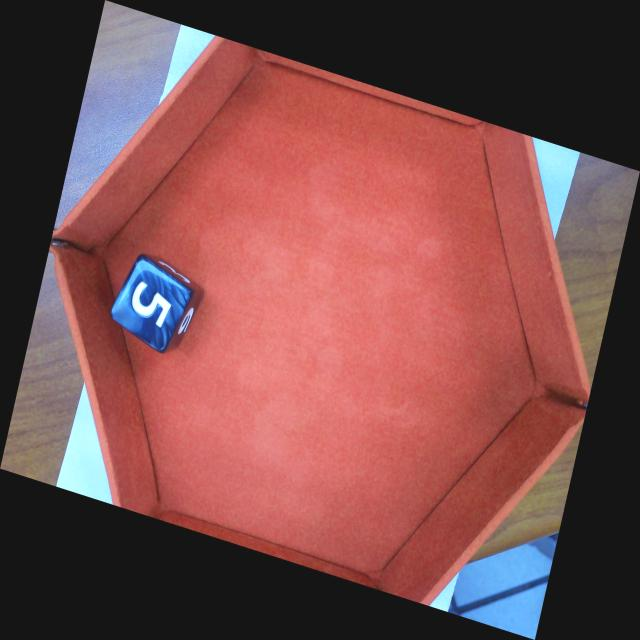dice: (107, 256, 195, 352)
